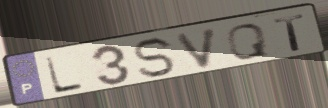3: (89, 43, 132, 87)
L: (43, 55, 87, 96)
Q: (225, 22, 271, 61)
S: (132, 35, 179, 79)
T: (271, 12, 308, 53)
V: (173, 24, 221, 70)
